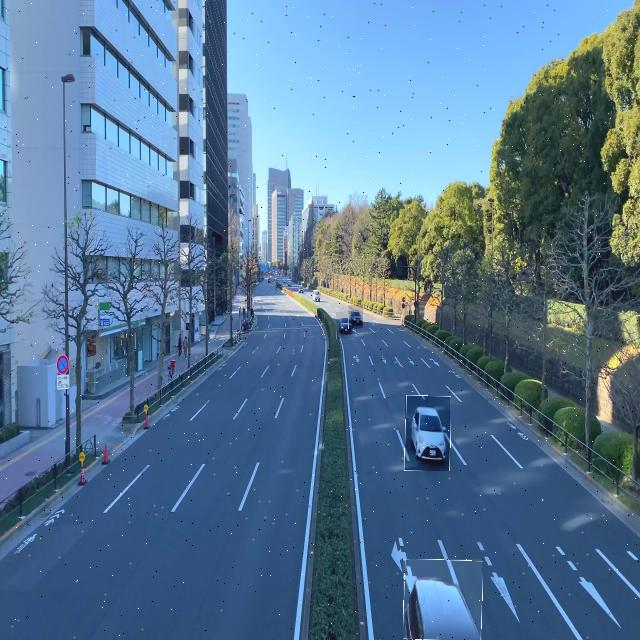Car: (403, 559, 482, 640), (405, 396, 450, 471), (336, 311, 354, 339), (348, 305, 363, 329)
